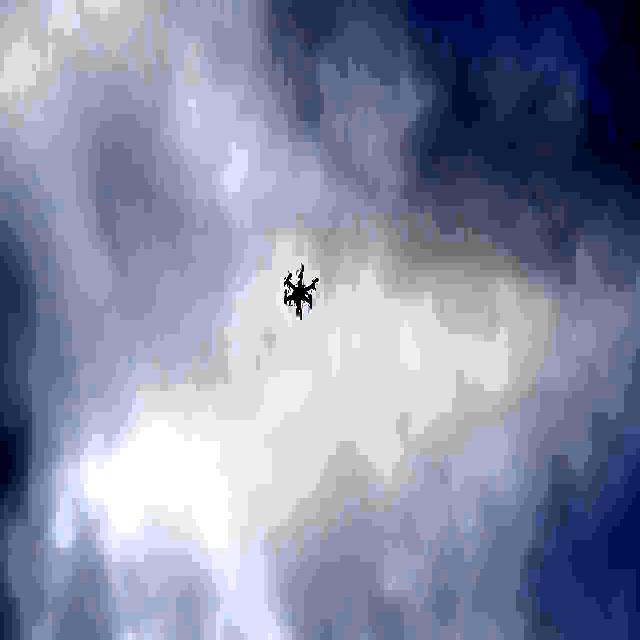drone: (281, 261, 319, 320)
